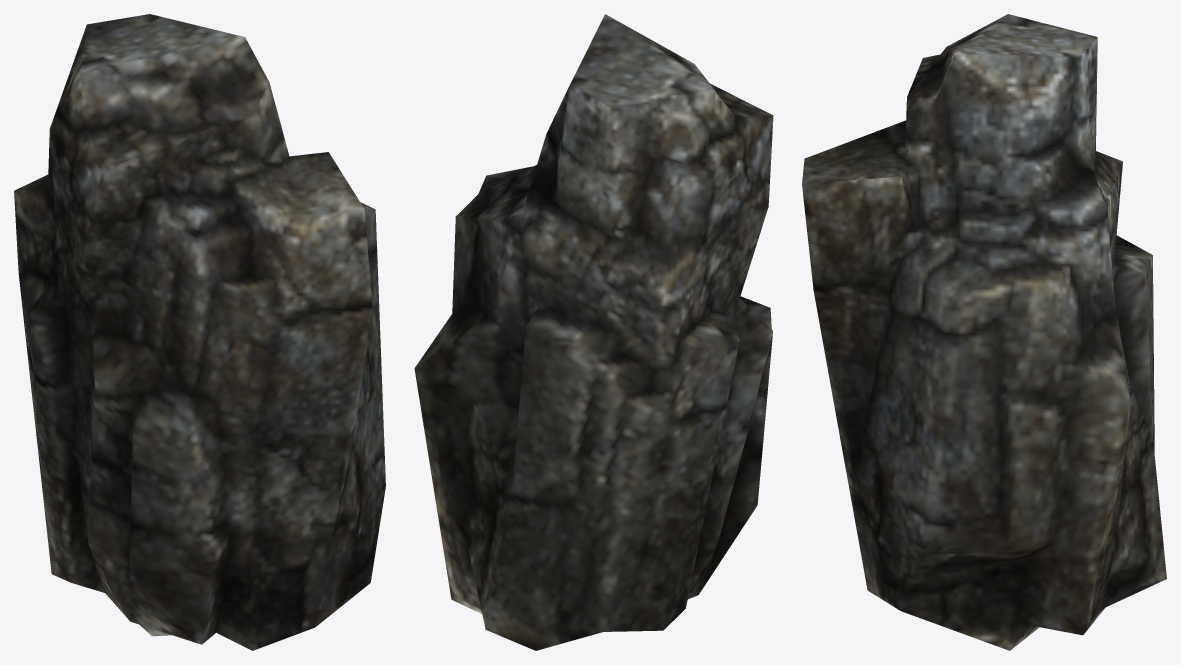
Rendered from Rock7_LOD1.fbx.
3 renders of one model, left to right at view 1: azimuth 30°, elevation 25°; view 2: azimuth 150°, elevation 25°; view 3: azimuth 270°, elevation 25°, orthographic. The views are drawn at different scales.
Visible parts, largest first — view 1: Rock7_Group60451; view 2: Rock7_Group60451; view 3: Rock7_Group60451.
Boxes of the visible parts, bbox=[...] form: Rock7_Group60451: bbox=[14, 14, 385, 650]; Rock7_Group60451: bbox=[414, 14, 773, 650]; Rock7_Group60451: bbox=[802, 14, 1166, 650].
Size of the model in its own units: 2.53 by 4.79 by 2.81.
